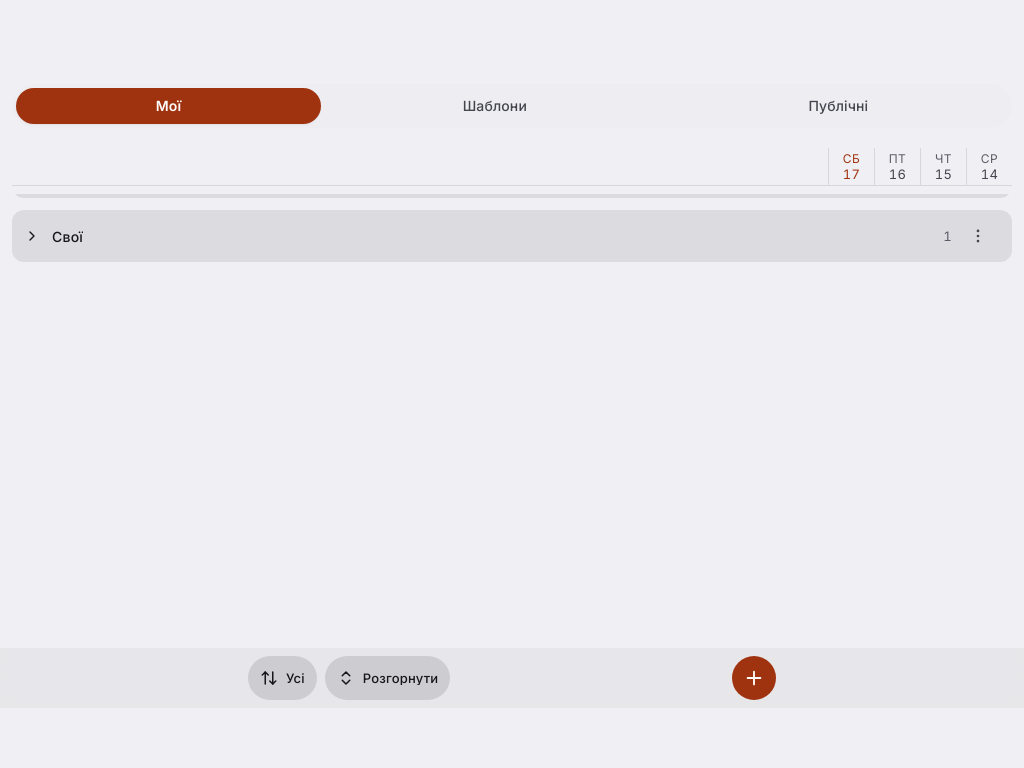
дії екрана › «так-ні» у матриці несе статус, а не число
Click the button "Свої 1" at coordinates (68, 236), box [24,210,952,262]
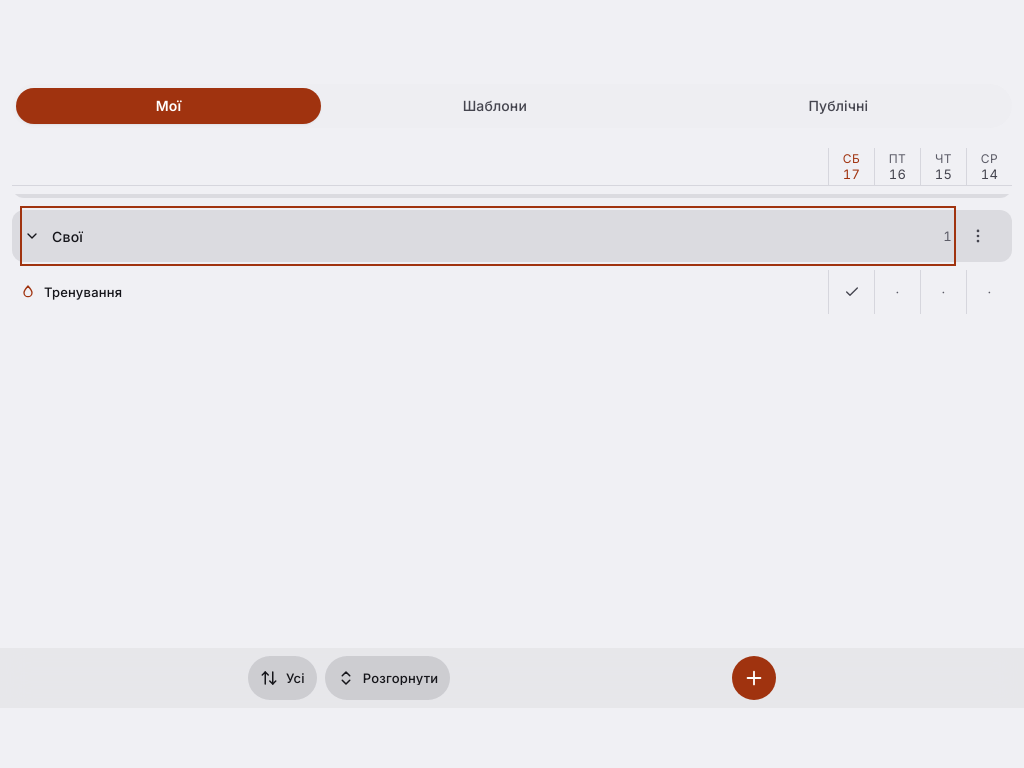
Expected: the button named "Тренування, Сб 17: так" is empty, [828,270,874,314]
Expected: the 4th icon is shown, [844,280,860,304]
